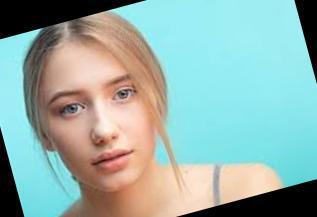Sober: (36, 47, 149, 190)
